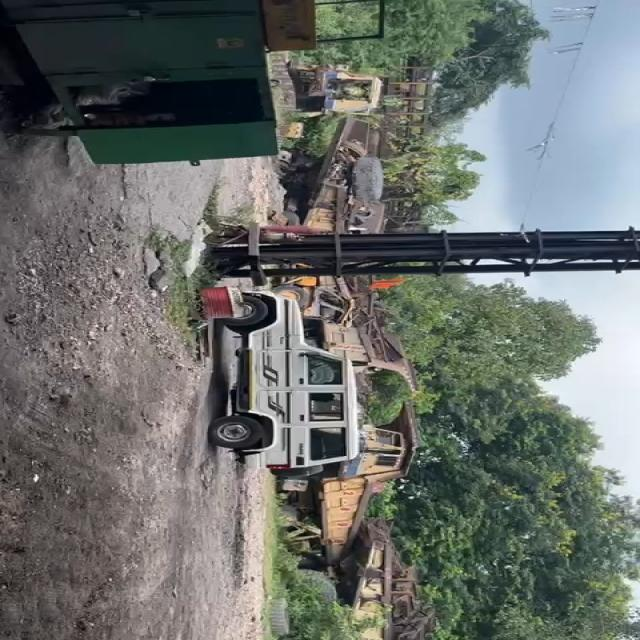light_vehicle: (241, 287, 372, 461)
